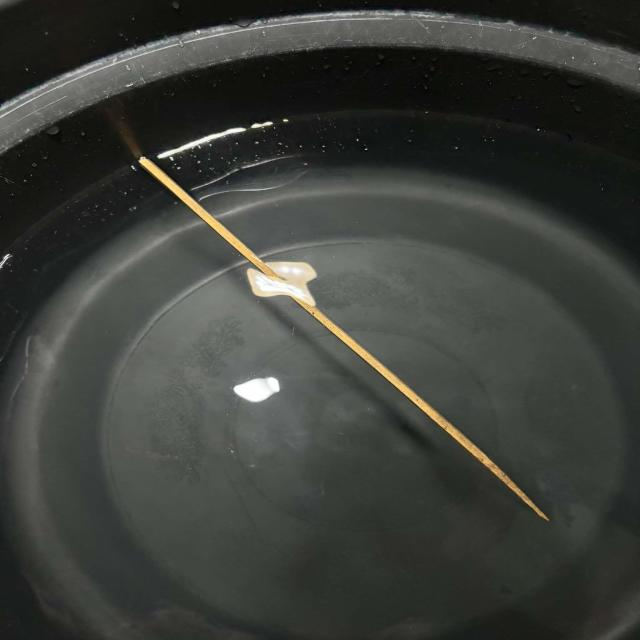Wood Stick: (110, 140, 572, 538)
